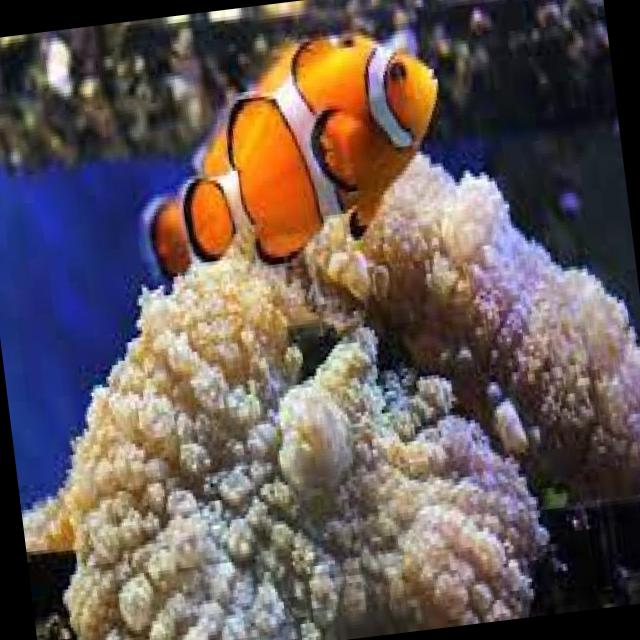ClownFish: (125, 23, 457, 278)
